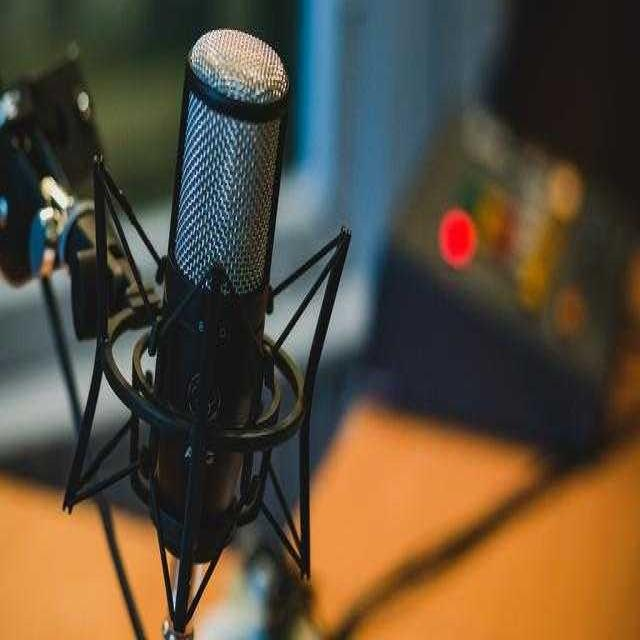microphone: (149, 36, 292, 557)
